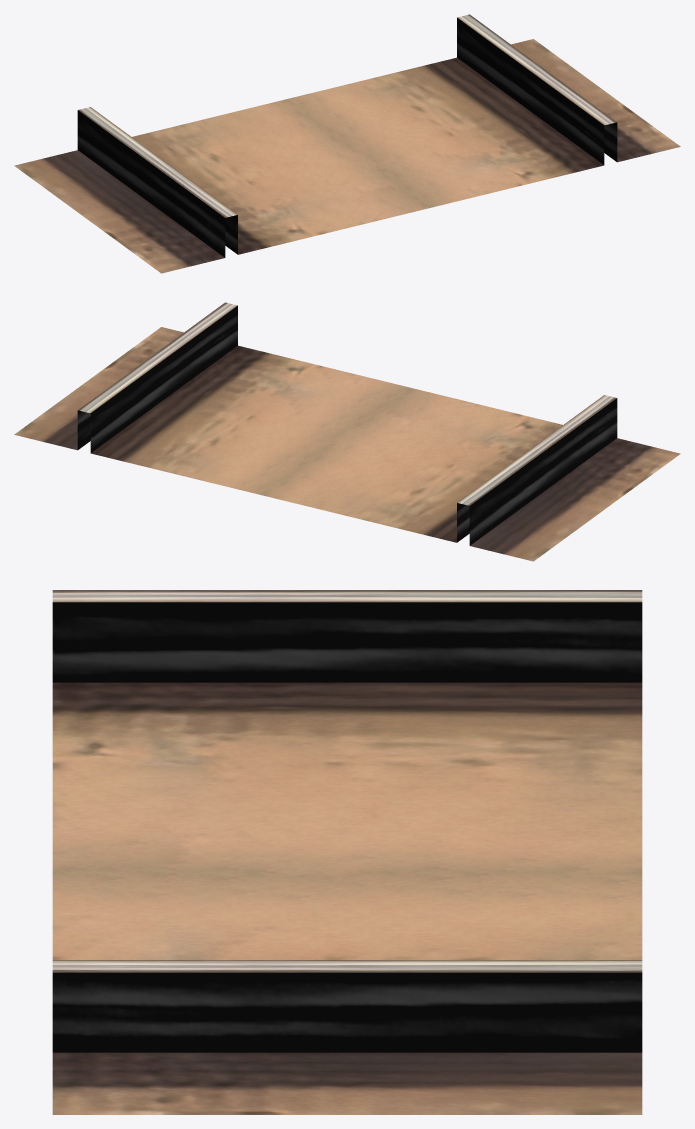
The model's file is Slab1.obj.
The picture shows the model from 3 angles, top to bottom: view 1: azimuth 30°, elevation 25°; view 2: azimuth 150°, elevation 25°; view 3: azimuth 270°, elevation 25°; orthographic projection. The views are drawn at different scales.
Parts seen in each view (by area): view 1: Mesh1 Model; view 2: Mesh1 Model; view 3: Mesh1 Model.
Boxes of the visible parts, bbox=[...] form: Mesh1 Model: bbox=[14, 14, 680, 273]; Mesh1 Model: bbox=[14, 302, 680, 561]; Mesh1 Model: bbox=[52, 590, 642, 1114].
Bounding box in the file's own units: 2.04 × 0.15 × 1.
Materials: 5 (5 with a texture image).
